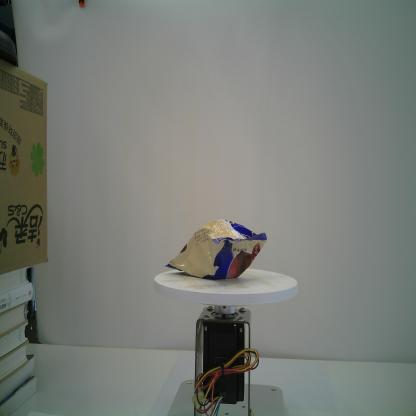Dessert: (164, 218, 267, 280)
